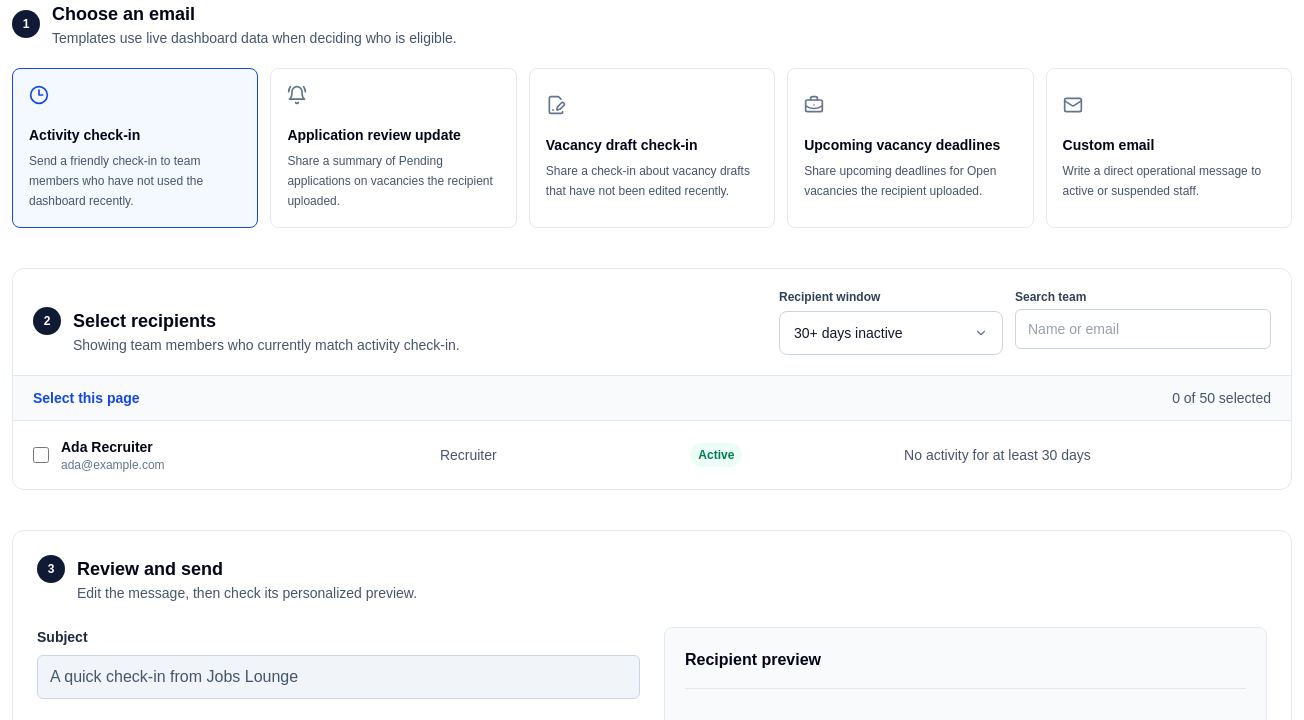
Test case: TeamEmailCenter › offers the four reminders and a custom email workflow
Expected: the button "Application review update" is shown, [270,68,517,228]
Expected: the button "Vacancy draft check-in" is shown, [529,68,775,228]
Click the button named "Recipient window" at (891, 333), box [779,311,1003,355]
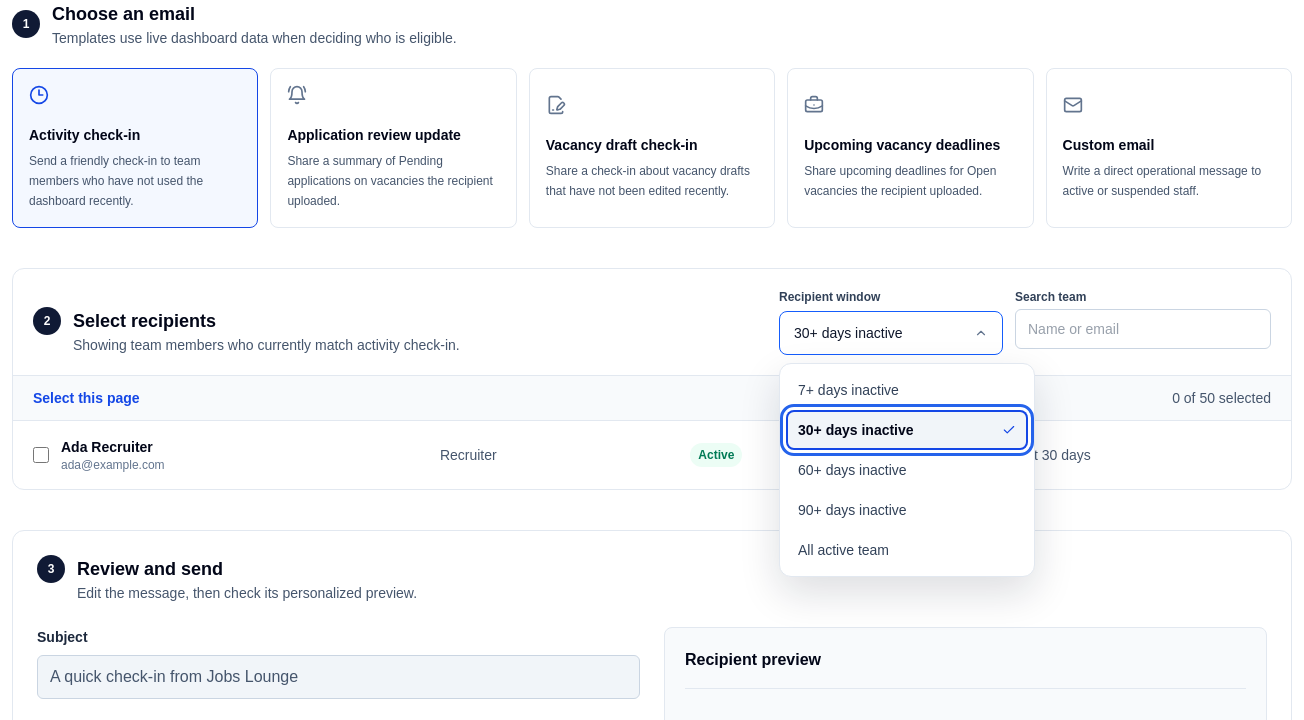
Expected: the option "7+ days inactive" is shown, [786,370,1028,410]
Expected: the option "All active team" is shown, [786,530,1028,570]
